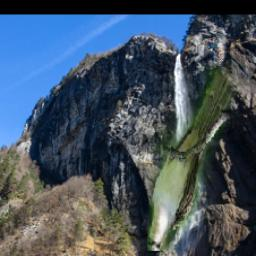Cuckoo: (147, 63, 245, 252)
Swallow: (199, 39, 227, 67)
